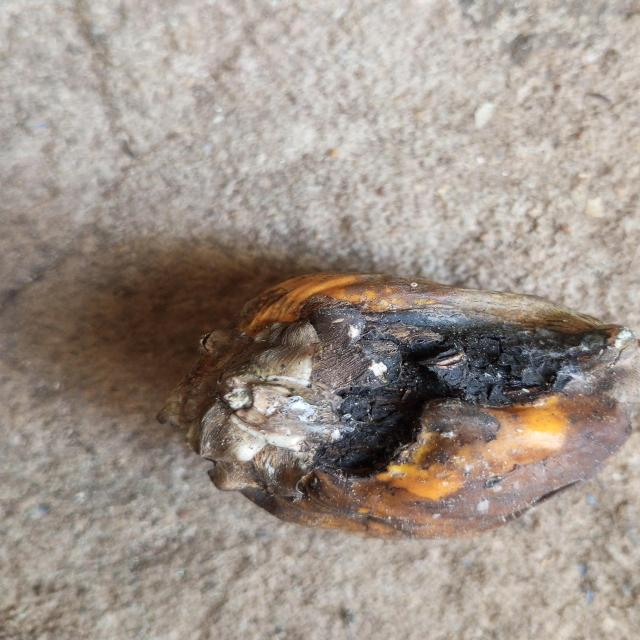damaged: (159, 273, 638, 537)
